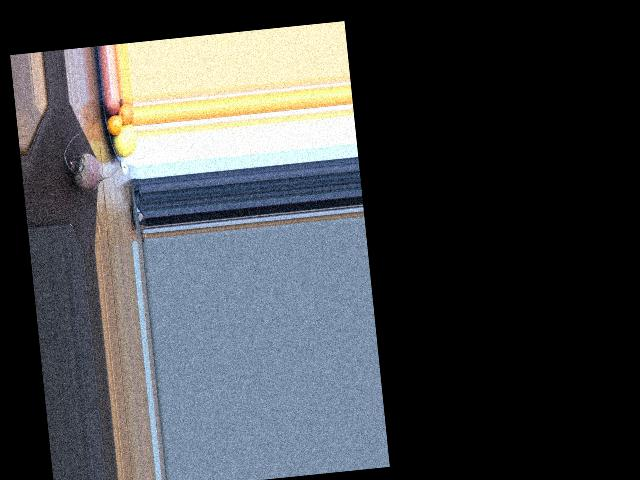beet: (61, 130, 118, 194)
